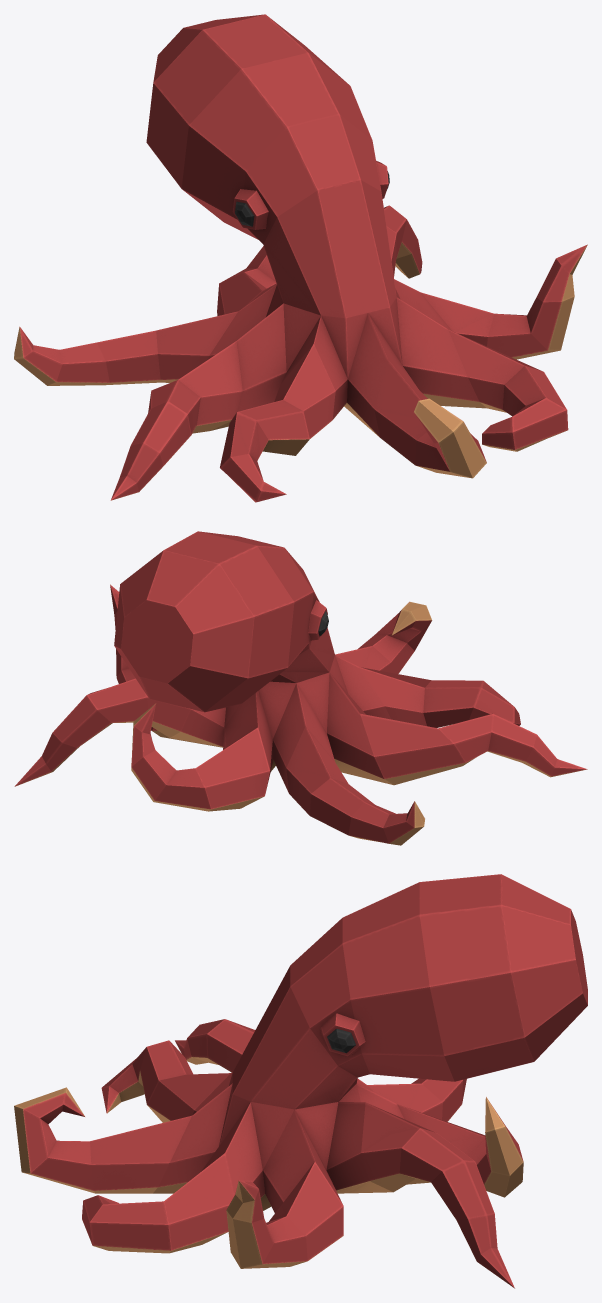
File: Octopus.glb
3 views of the same model, one above another, from view 1: azimuth 30°, elevation 25°; view 2: azimuth 150°, elevation 25°; view 3: azimuth 270°, elevation 25° (orthographic). The views are drawn at different scales.
Parts seen in each view (by area): view 1: Octopus_mesh; view 2: Octopus_mesh; view 3: Octopus_mesh.
Boxes of the visible parts, box(x1,y1,x2,y2) form: Octopus_mesh: box(14, 14, 587, 502); Octopus_mesh: box(14, 531, 587, 845); Octopus_mesh: box(14, 874, 587, 1288).
Bounding box in the file's own units: 17.74 × 10.08 × 17.24.
Materials: 1 (1 with a texture image).
